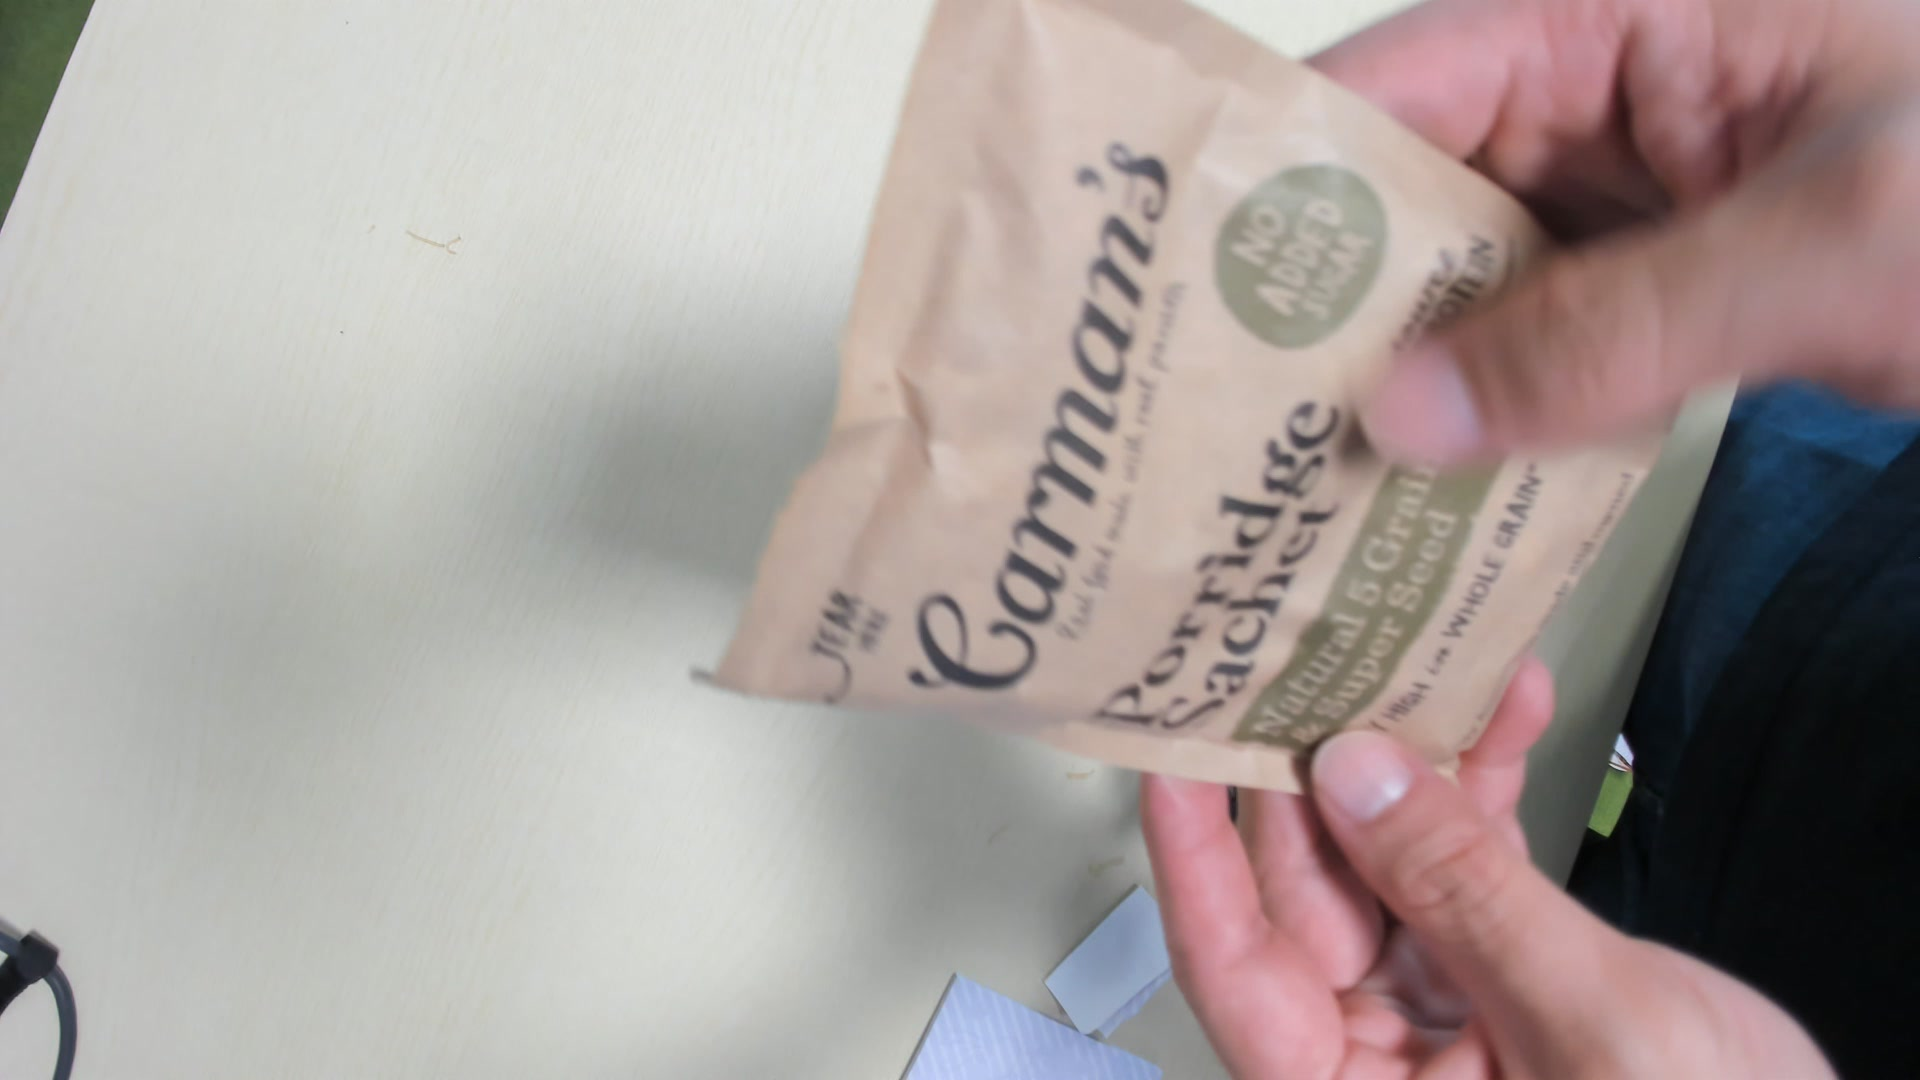InstantMeals_0-99g_NonHalal_NonHealthy: (709, 5, 1677, 810)
